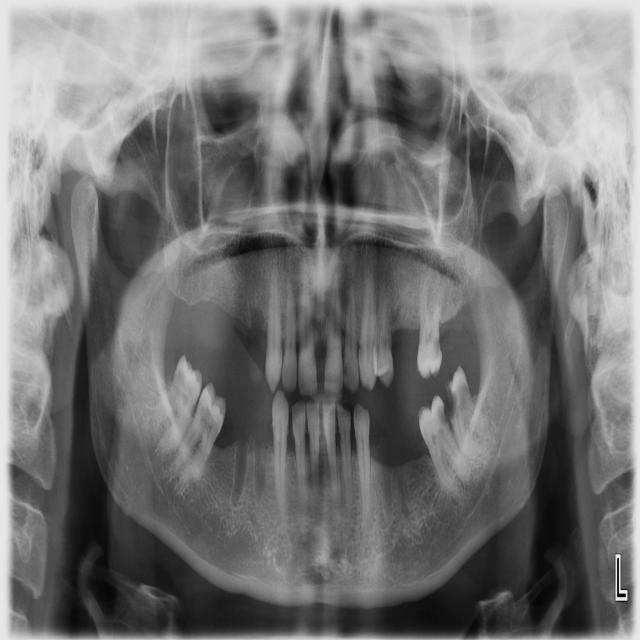mandibula: (69, 178, 567, 603)
